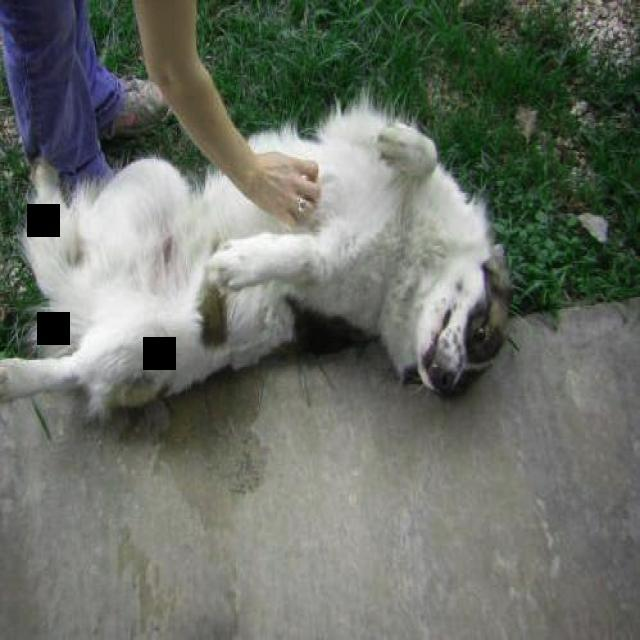adult_dog: (1, 103, 504, 437)
